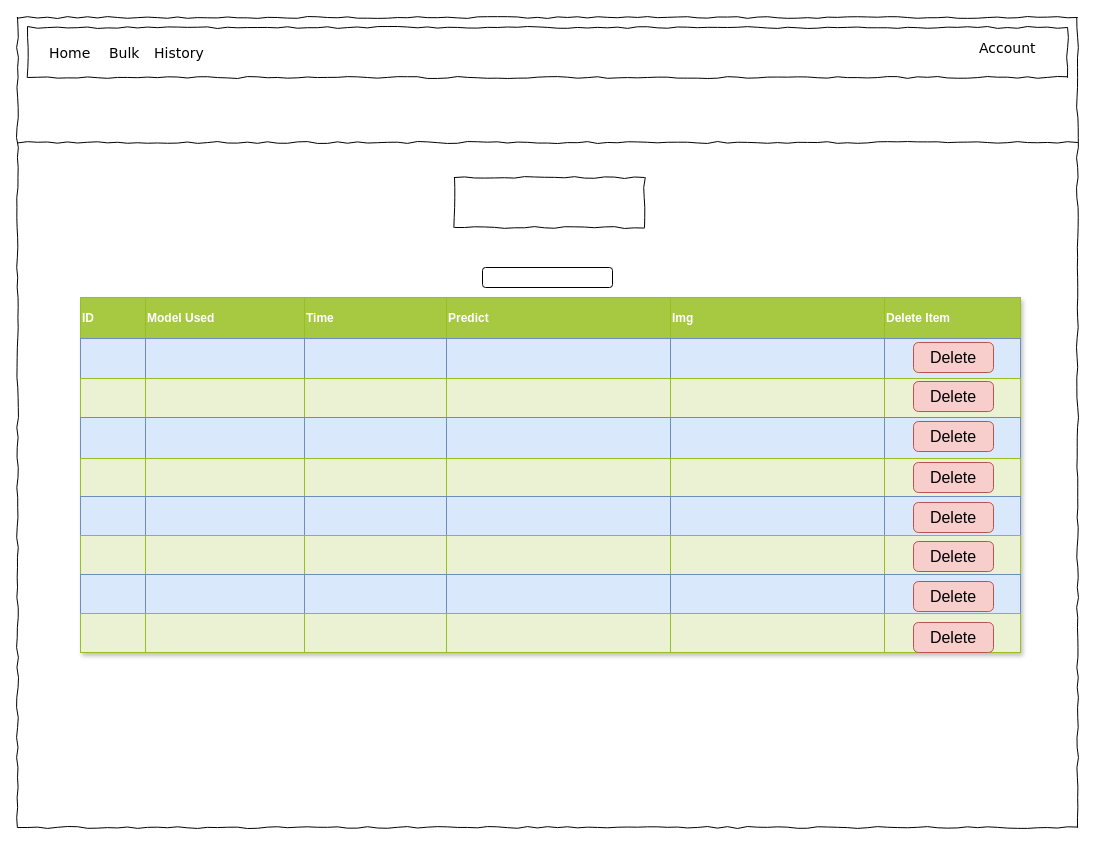
Image size: 1095x845. Some labels were removed from this diagram. Each missing label, with the centre of its shape:
LOGO: [549,202]
Search: [547,277]
